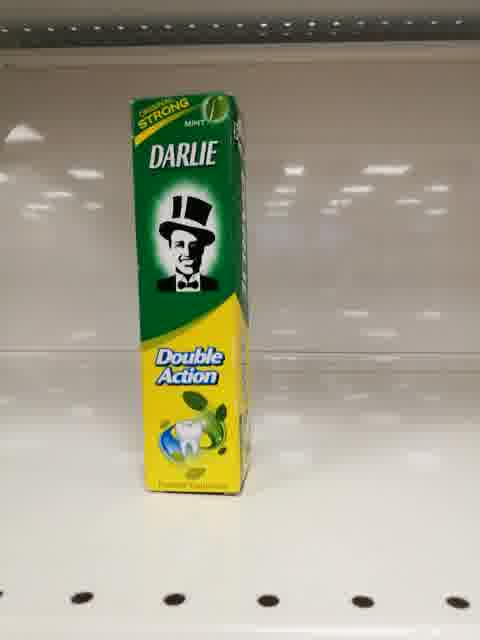toothpaste: (130, 90, 250, 497)
